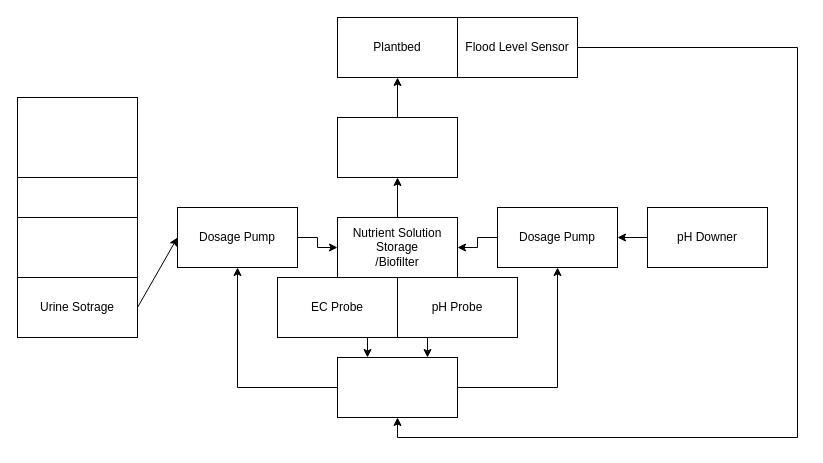
Image size: 823x463. Some labels were removed from this diagram. Each missing label, with the centre of its shape:
Micro Controller Unit: the point at 397,387
Sand Filter: the point at 77,197
Sealable Tank: the point at 77,137
UV Sterilizer: the point at 77,247
Water Pump: the point at 397,147
